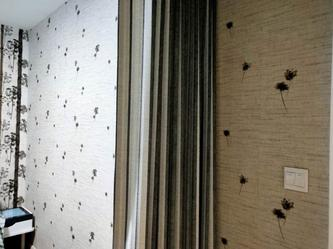switch: (297, 172, 306, 188), (286, 170, 294, 187)
